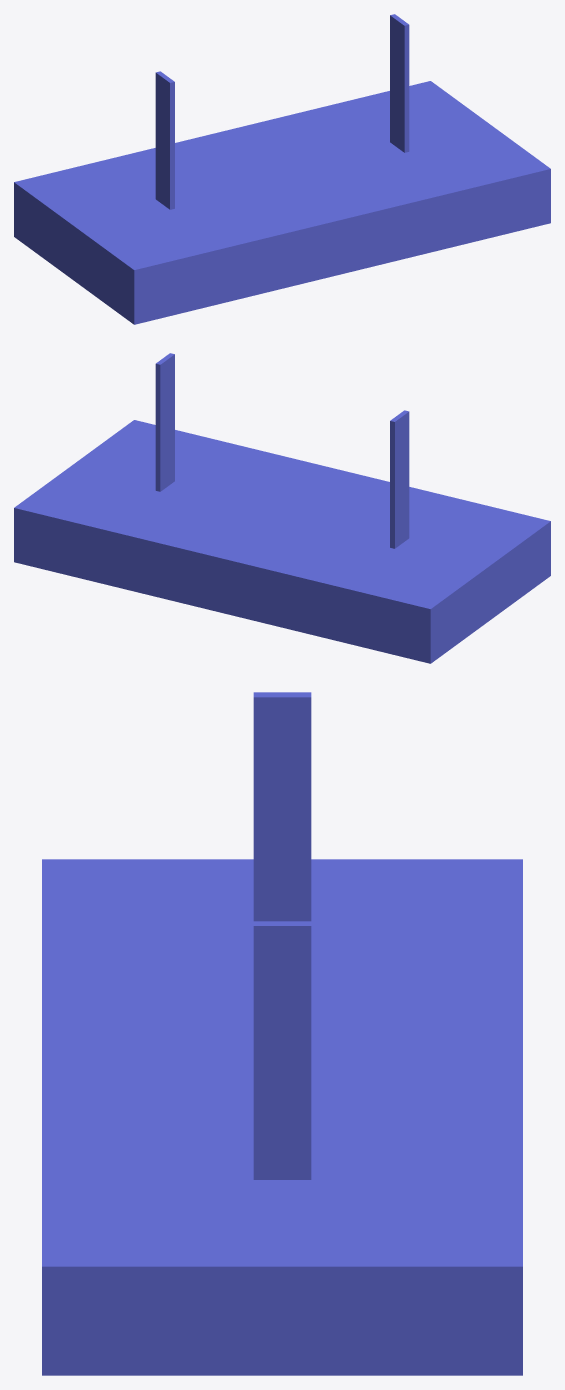
The model's file is Туннельная лампа.fbx.
The picture shows the model from 3 angles, top to bottom: view 1: azimuth 30°, elevation 25°; view 2: azimuth 150°, elevation 25°; view 3: azimuth 270°, elevation 25°; orthographic projection. The views are drawn at different scales.
Parts seen in each view (by area): view 1: Туннельная лампа; view 2: Туннельная лампа; view 3: Туннельная лампа.
Boxes of the visible parts, left/top/right/bottom form: Туннельная лампа: left=14, top=14, right=550, bottom=324; Туннельная лампа: left=14, top=353, right=550, bottom=663; Туннельная лампа: left=42, top=692, right=522, bottom=1375.
Size of the model in its own units: 160 by 66.59 by 80.
